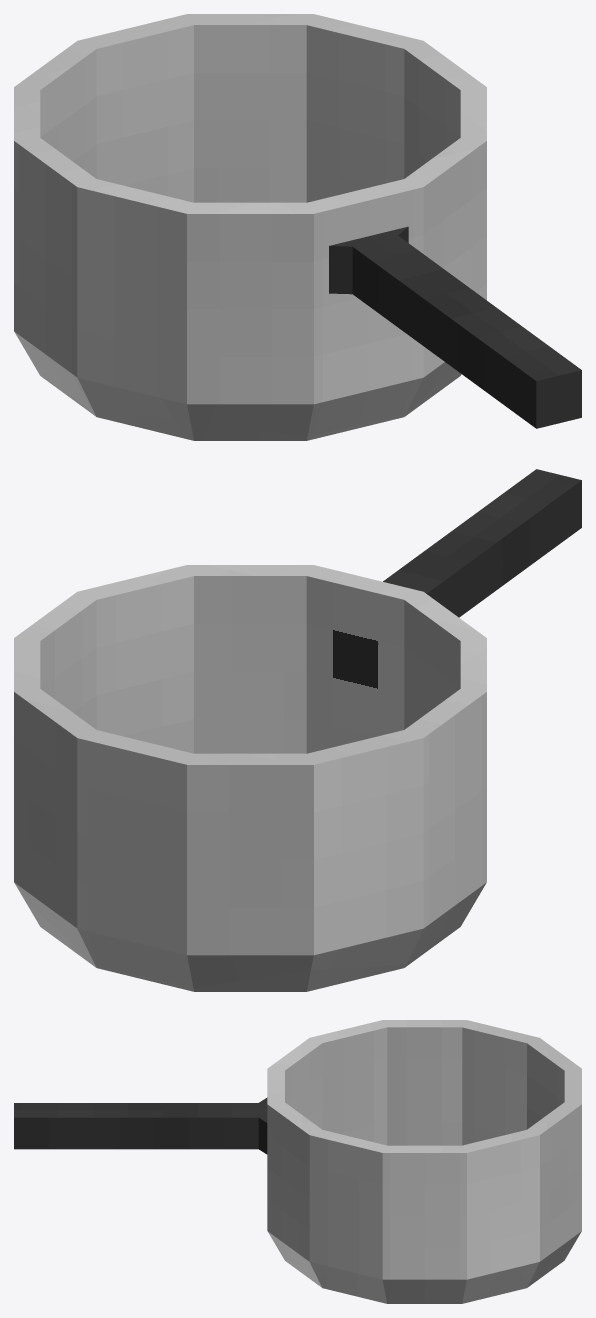
The model's file is garnek1.fbx.
3 renders of one model, top to bottom at view 1: azimuth 30°, elevation 25°; view 2: azimuth 150°, elevation 25°; view 3: azimuth 270°, elevation 25°, orthographic. The views are drawn at different scales.
Parts seen in each view (by area): view 1: garnek, rączka; view 2: garnek, rączka; view 3: garnek, rączka.
Boxes of the visible parts, box(x1,y1,x2,y2) form: garnek: box(14, 14, 486, 440); rączka: box(329, 226, 581, 428); garnek: box(14, 565, 486, 991); rączka: box(383, 469, 581, 617); garnek: box(267, 1020, 581, 1303); rączka: box(14, 1097, 267, 1154).
Bounding box in the file's own units: 56.25 × 31.25 × 102.
Materials: 2 (2 with a texture image).
